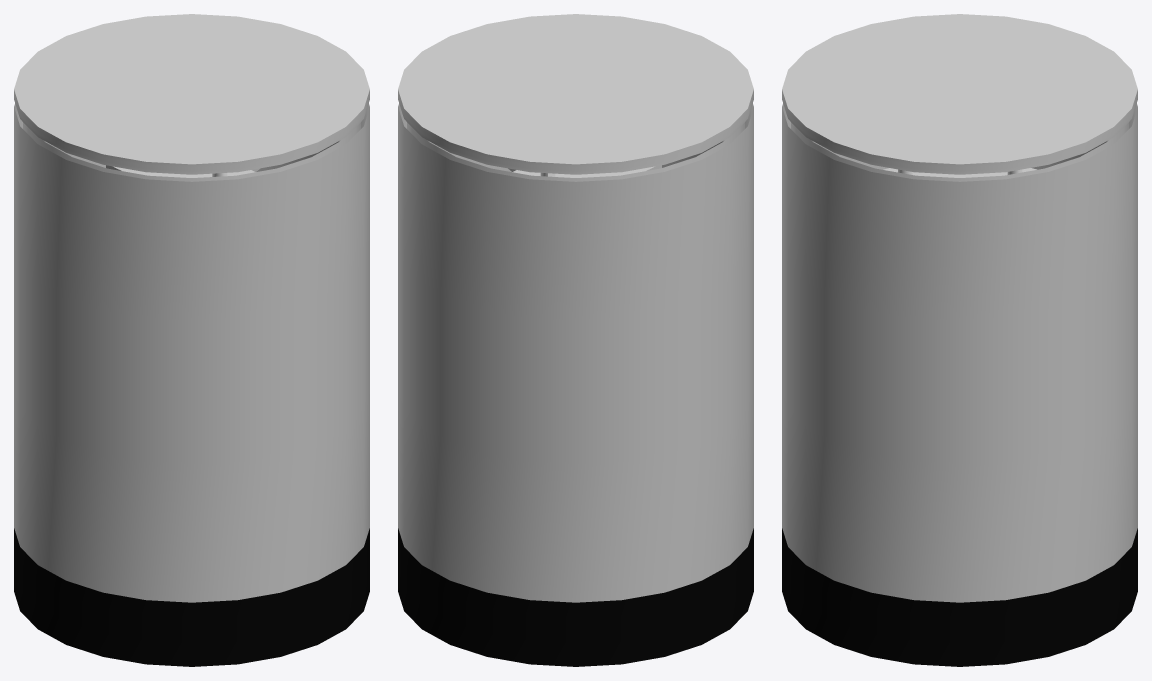
The model's file is JNT era time rotor revised.dae.
The picture shows the model from 3 angles, left to right: view 1: azimuth 30°, elevation 25°; view 2: azimuth 150°, elevation 25°; view 3: azimuth 270°, elevation 25°; orthographic projection.
Parts seen in each view (by area): view 1: prim17, prim1, prim0, prim11; view 2: prim17, prim1, prim0, prim11; view 3: prim17, prim1, prim0.
Boxes of the visible parts, x1,y1,x2,y2 form: prim17: (14, 103, 369, 602); prim1: (14, 14, 369, 174); prim0: (14, 528, 369, 666); prim11: (106, 165, 260, 177); prim17: (398, 103, 753, 602); prim1: (398, 14, 753, 174); prim0: (398, 528, 753, 666); prim11: (508, 165, 661, 177); prim17: (782, 103, 1137, 602); prim1: (782, 14, 1137, 174); prim0: (782, 528, 1137, 666).
Bounding box in the file's own units: 0.8812 × 0.8812 × 1.37.
8 materials, 2 textured.
